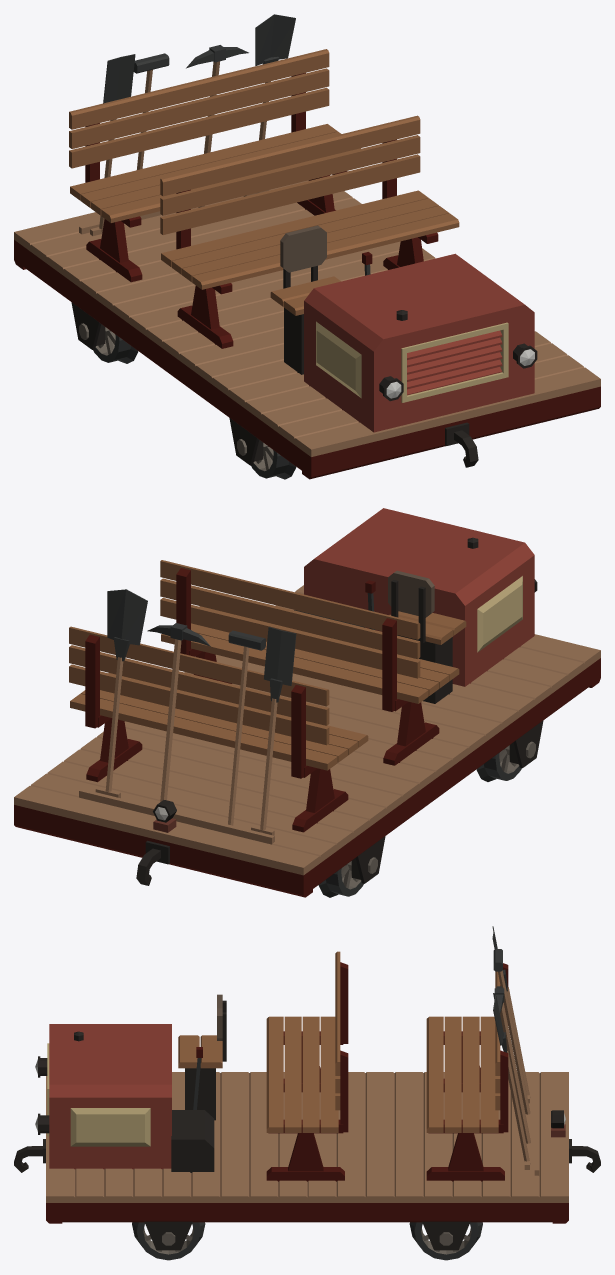
Rendered from track-maintenance-trolley-50cb76.glb.
3 views of the same model, one above another, from view 1: azimuth 30°, elevation 25°; view 2: azimuth 150°, elevation 25°; view 3: azimuth 270°, elevation 25° (orthographic). The views are drawn at different scales.
Visible parts, largest first — view 1: body, tools-set, wheel-2-set, wheel-1-set; view 2: body, tools-set, wheel-1-set, wheel-2-set; view 3: body, tools-set, wheel-1-set, wheel-2-set.
Part boxes in pixels (<box>): body: <box>14,49,600,479</box>; tools-set: <box>90,14,295,235</box>; wheel-2-set: <box>93,327,138,363</box>; wheel-1-set: <box>251,443,296,479</box>; body: <box>14,508,600,897</box>; tools-set: <box>95,589,296,835</box>; wheel-1-set: <box>476,745,521,781</box>; wheel-2-set: <box>318,861,363,897</box>; body: <box>14,951,600,1250</box>; tools-set: <box>492,926,530,1169</box>; wheel-1-set: <box>132,1222,205,1260</box>; wheel-2-set: <box>409,1222,482,1260</box>.
Size of the model in its own units: 1.81 by 1.67 by 3.59.
